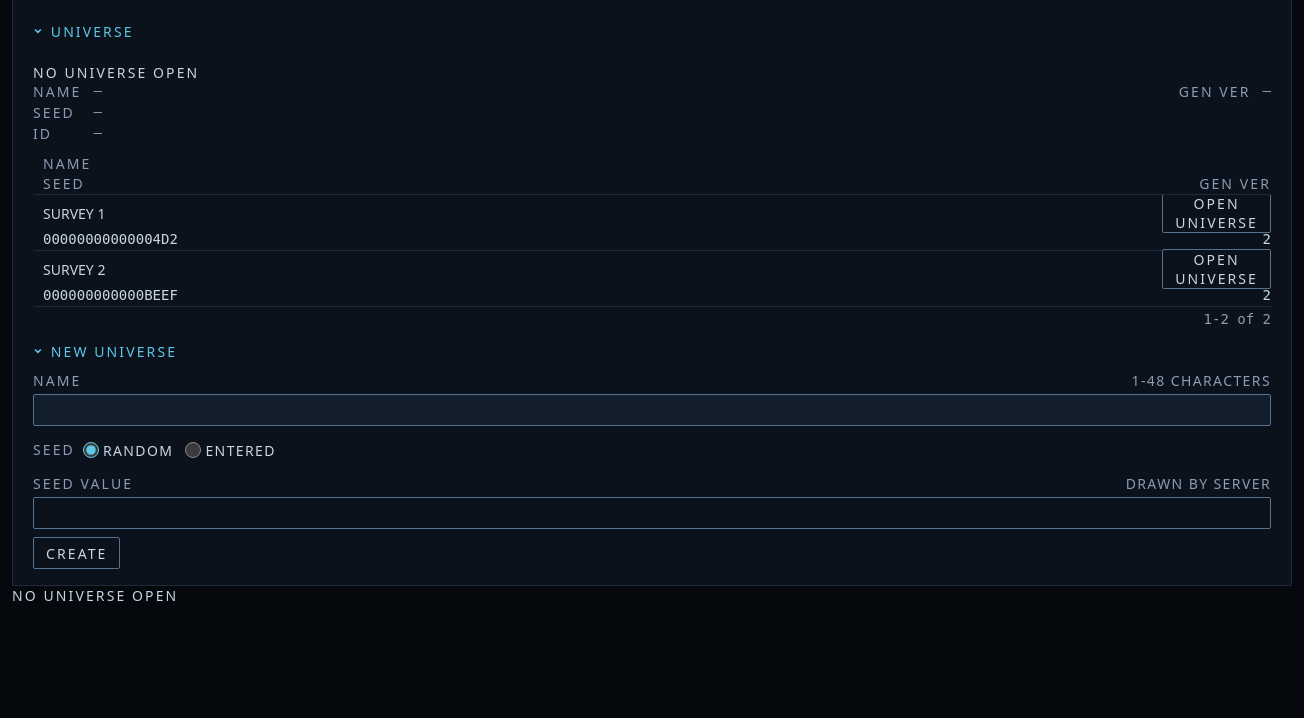
Test: ParametersPanel › shows which parameters are in view and how many there are
Click the button with aria-label "Open universe SURVEY 1": (1217, 213) [1162,193,1271,233]
(page scrolled)
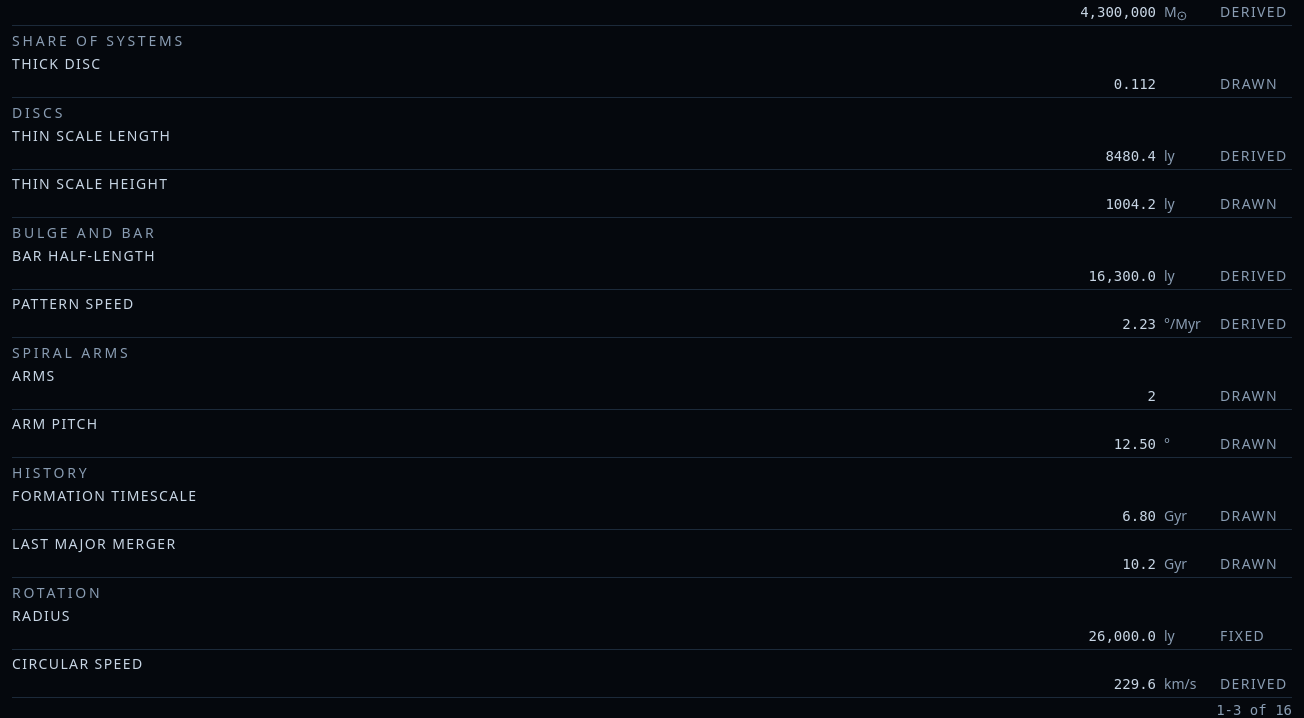
Expected: the text "1-3 of 16" is shown, [1216,702,1292,717]
